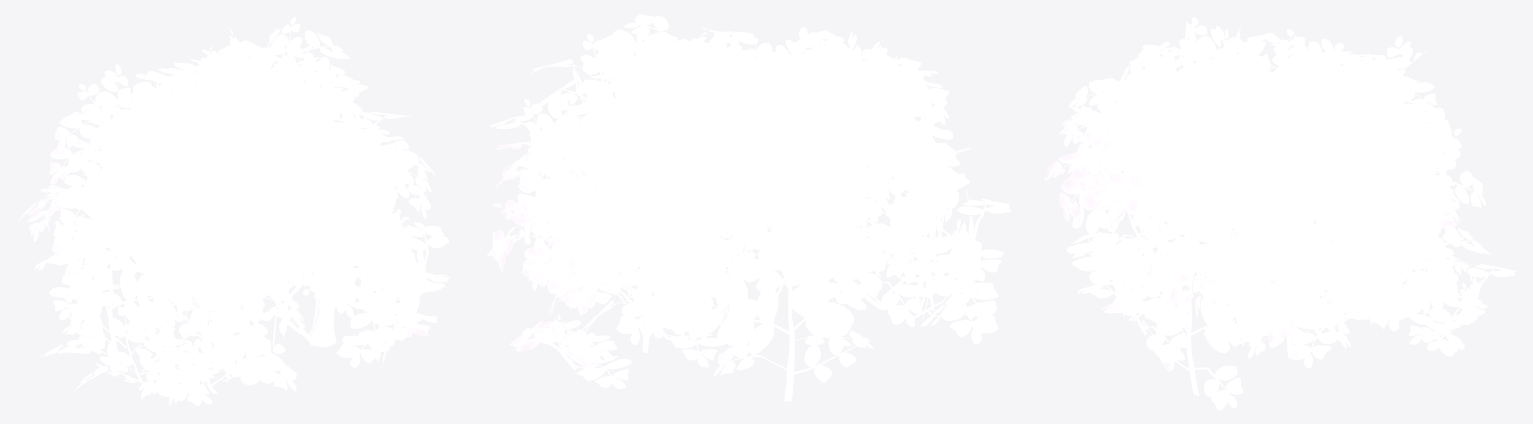
3 renders of one model, left to right at view 1: azimuth 30°, elevation 25°; view 2: azimuth 150°, elevation 25°; view 3: azimuth 270°, elevation 25°, orthographic. The views are drawn at different scales.
Parts seen in each view (by area): view 1: SM_FH_Medium_Bush_Meadows_C_LOD0; view 2: SM_FH_Medium_Bush_Meadows_C_LOD0; view 3: SM_FH_Medium_Bush_Meadows_C_LOD0.
Boxes of the visible parts, x1,y1,x2,y2 form: SM_FH_Medium_Bush_Meadows_C_LOD0: (17, 17, 449, 406); SM_FH_Medium_Bush_Meadows_C_LOD0: (487, 14, 1011, 401); SM_FH_Medium_Bush_Meadows_C_LOD0: (1044, 17, 1517, 409).
Size of the model in its own units: 1.68 by 1.3 by 1.77.
Materials: 1 (1 with a texture image).
